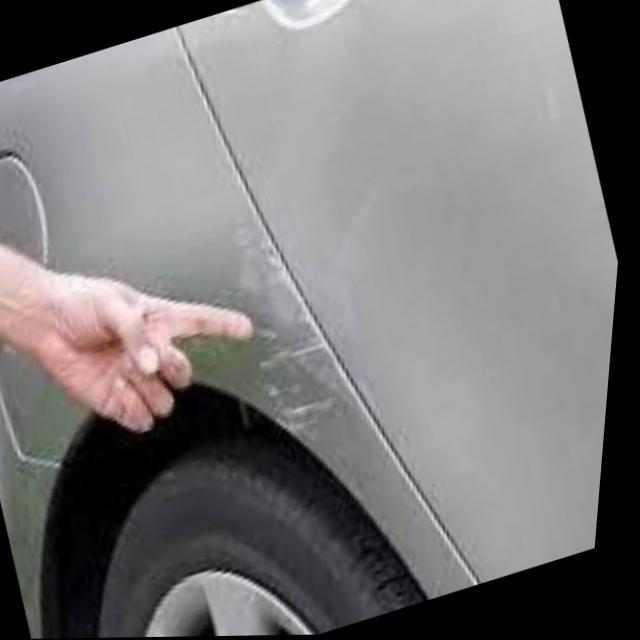rub: (244, 209, 365, 437)
